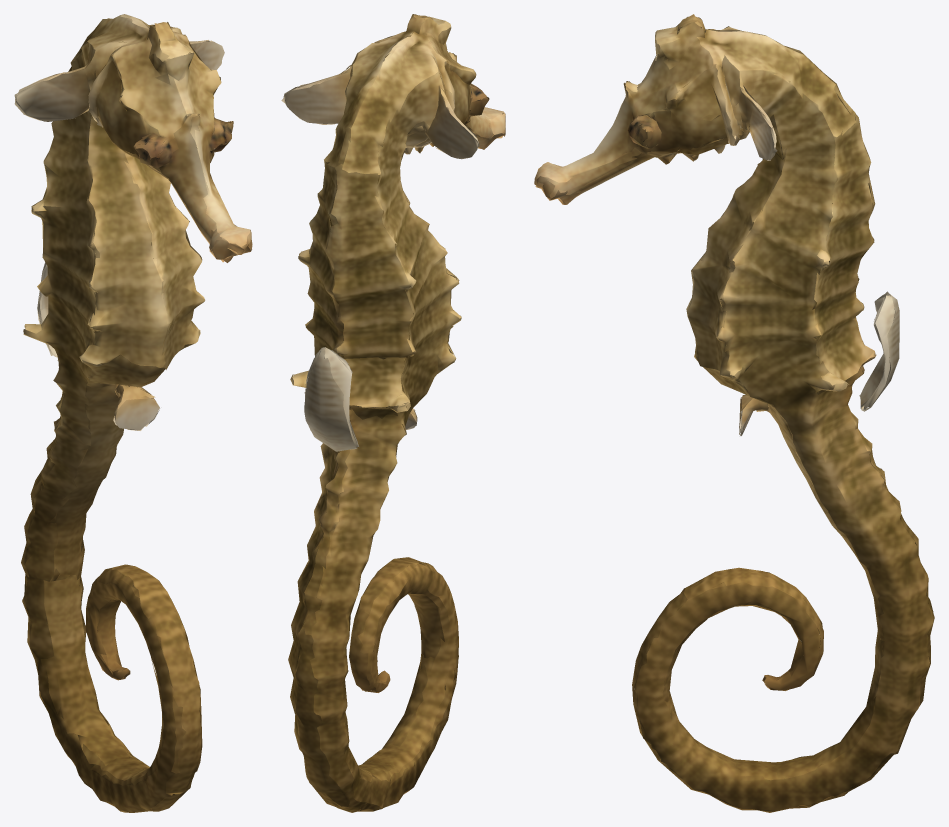
File: seahorse.glb
3 renders of one model, left to right at view 1: azimuth 30°, elevation 25°; view 2: azimuth 150°, elevation 25°; view 3: azimuth 270°, elevation 25°, orthographic. The views are drawn at different scales.
Parts seen in each view (by area): view 1: seahorse | Lux3D; view 2: seahorse | Lux3D; view 3: seahorse | Lux3D.
Part boxes in pixels (x1,y1,x2,y2): seahorse | Lux3D: (14, 14, 252, 812); seahorse | Lux3D: (281, 14, 505, 812); seahorse | Lux3D: (534, 14, 934, 812).
Size of the model in its own units: 0.2709 by 1 by 0.4592.
1 material, 1 textured.
